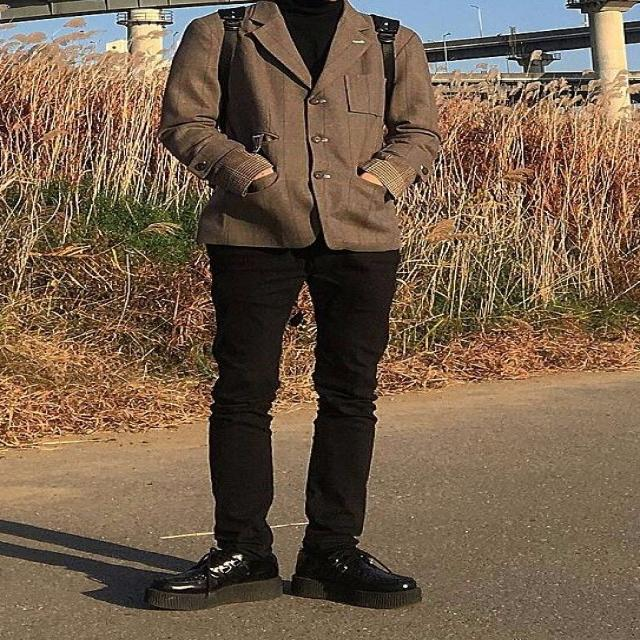blazer: (156, 0, 444, 255)
denimpants: (204, 210, 403, 555)
